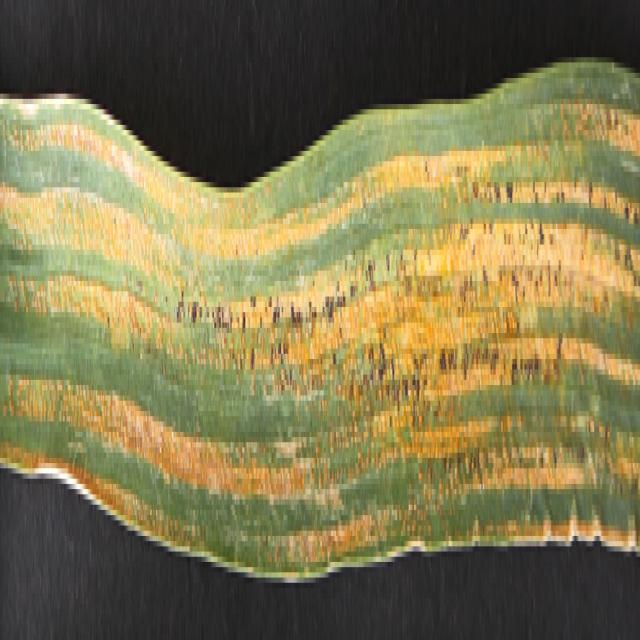leaf rust: (1, 104, 639, 557)
